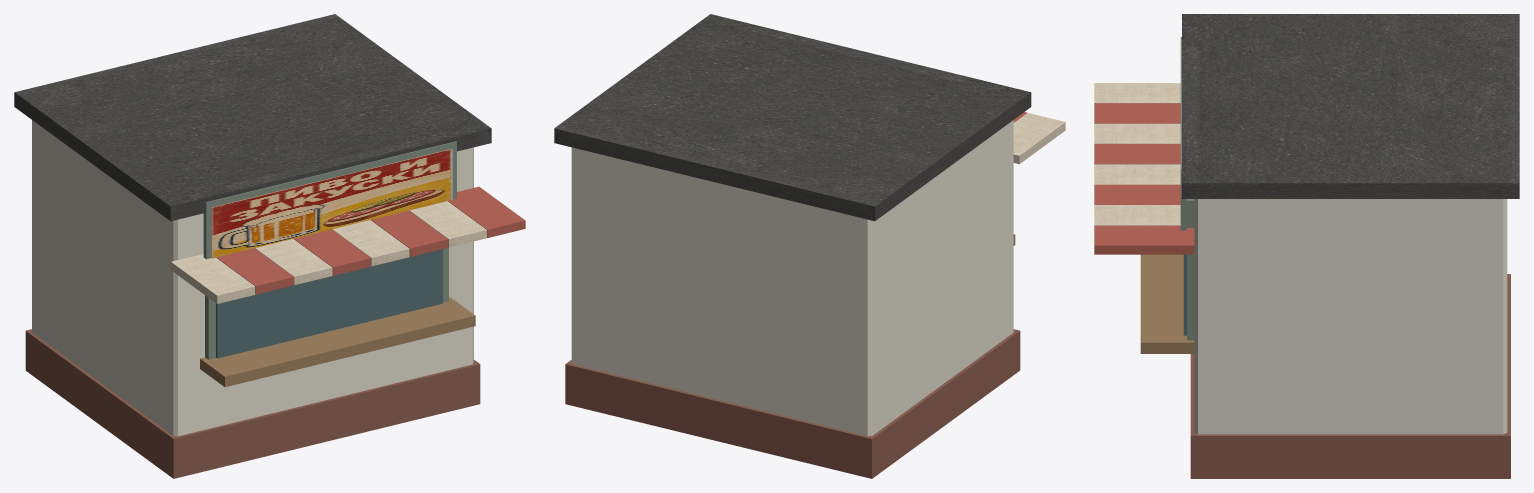
Rendered from kiosk.glb.
3 renders of one model, left to right at view 1: azimuth 30°, elevation 25°; view 2: azimuth 150°, elevation 25°; view 3: azimuth 270°, elevation 25°, orthographic. The views are drawn at different scales.
Parts seen in each view (by area): view 1: kiosk; view 2: kiosk; view 3: kiosk.
Part boxes in pixels (x1=…): kiosk: x1=14, y1=14, x2=525, y2=478; kiosk: x1=554, y1=14, x2=1065, y2=478; kiosk: x1=1094, y1=14, x2=1519, y2=478.
Bounding box in the file's own units: 3.2 × 2.64 × 3.4.
Materials: 9 (3 with a texture image).
